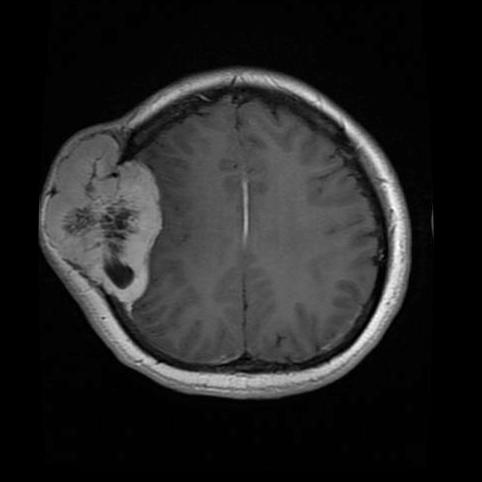Tumour-Meningioma: (31, 103, 160, 328)
